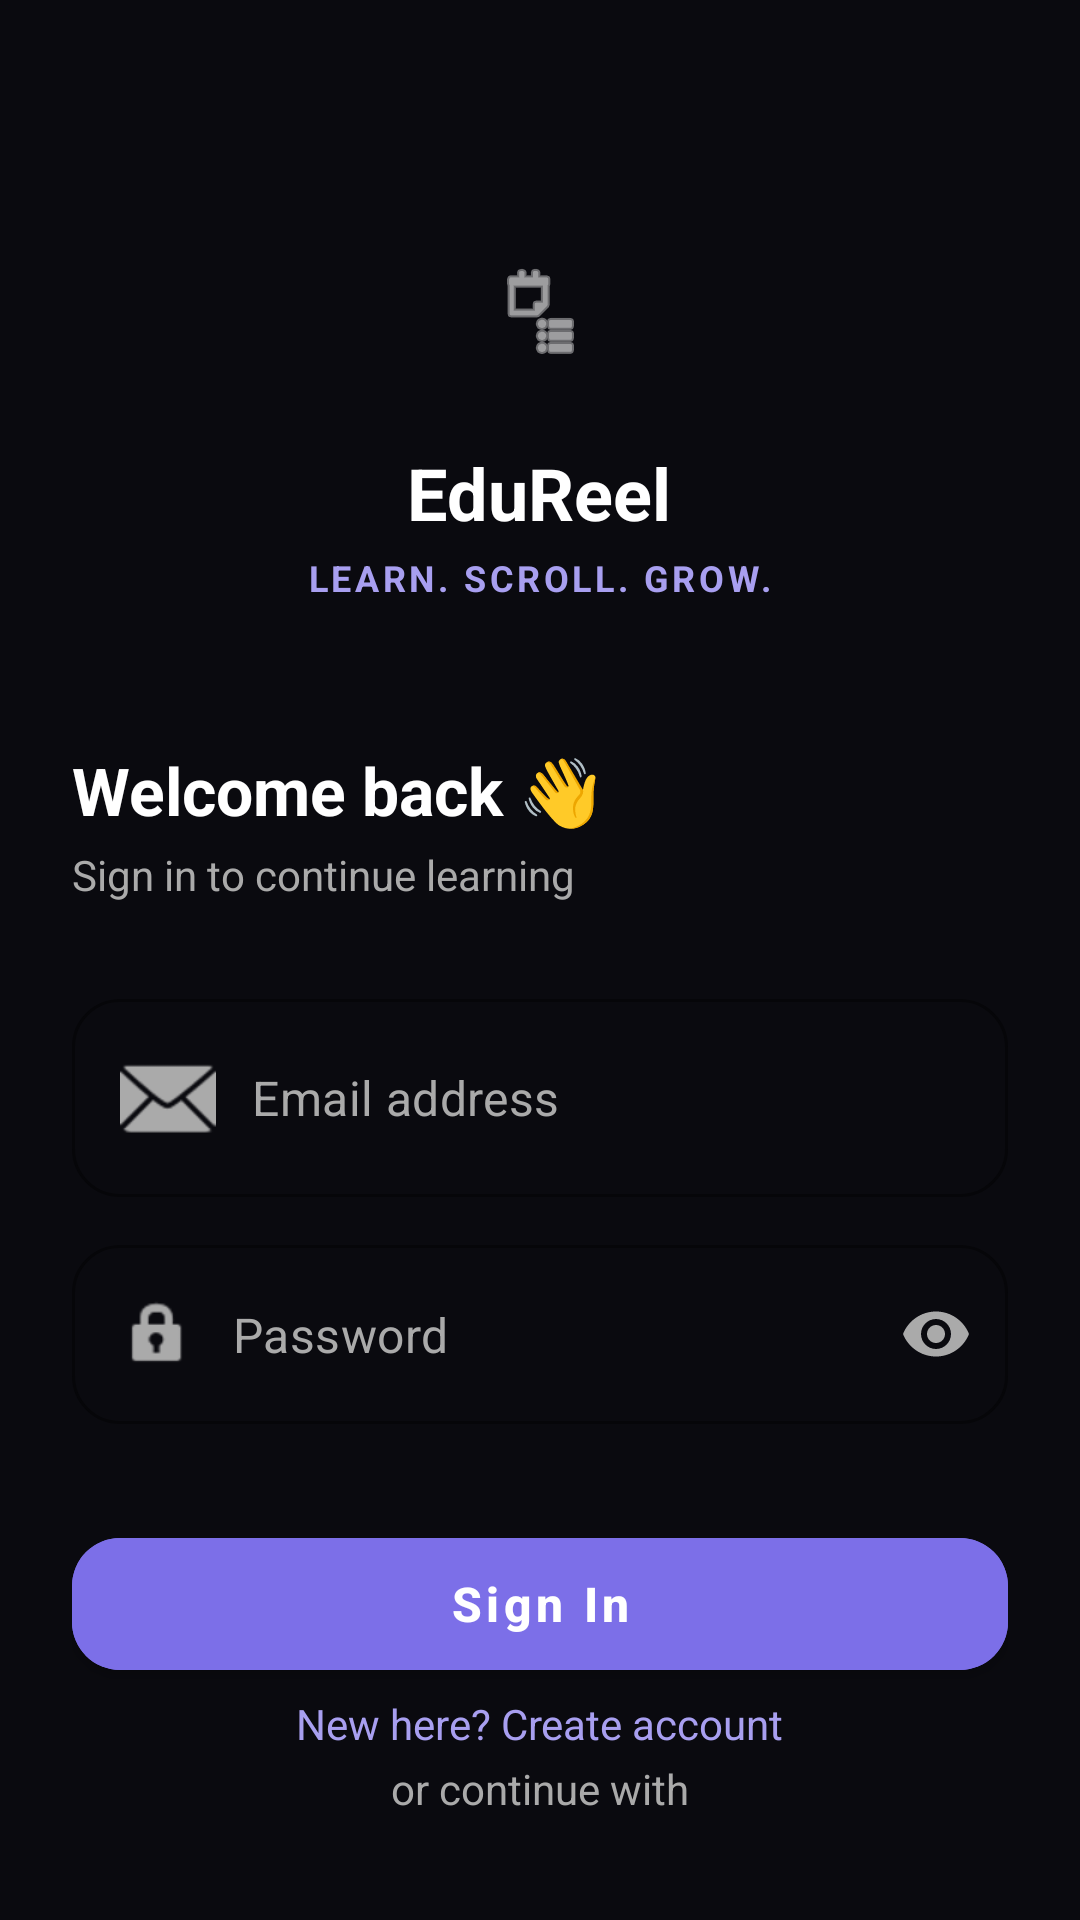

Icons on this 1080x1920 Android screen, each with the point to tap as (x,y):
agenda: (540,311)
